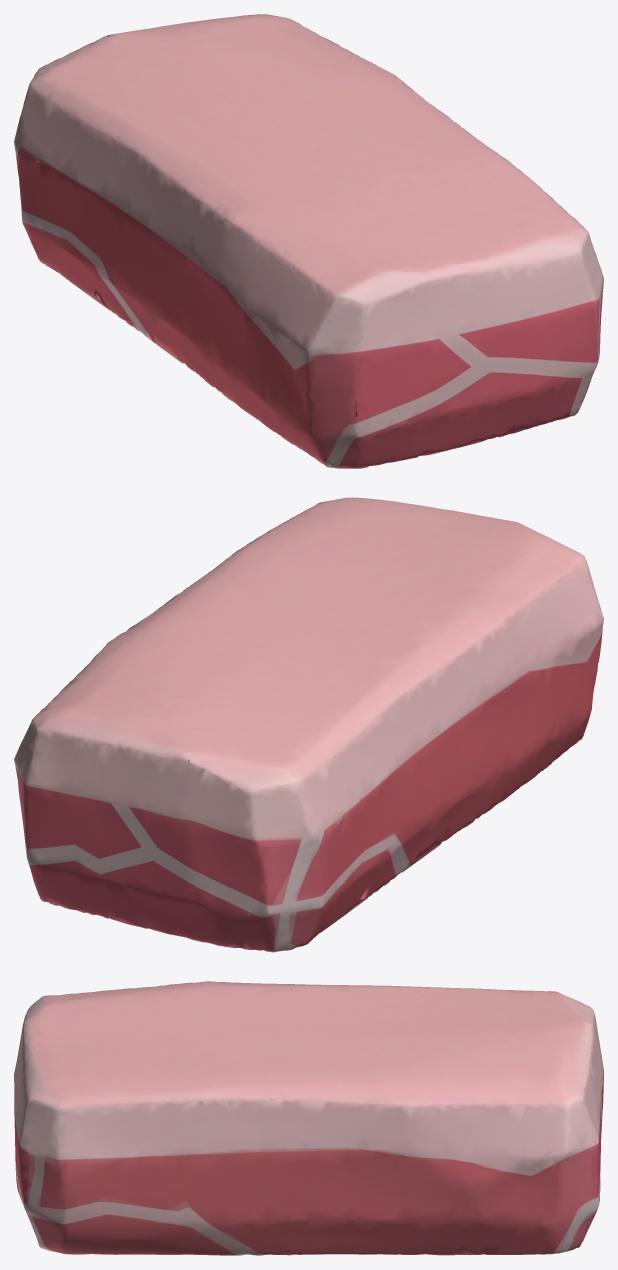
The model's file is Meshy_AI_Marbled_Pink_Block_0422143606_texture.fbx.
3 views of the same model, one above another, from view 1: azimuth 30°, elevation 25°; view 2: azimuth 150°, elevation 25°; view 3: azimuth 270°, elevation 25° (orthographic). The views are drawn at different scales.
Parts seen in each view (by area): view 1: Mesh_0; view 2: Mesh_0; view 3: Mesh_0.
Part boxes in pixels (left/top/right/bottom): Mesh_0: left=14, top=14, right=603, bottom=468; Mesh_0: left=14, top=497, right=603, bottom=952; Mesh_0: left=14, top=981, right=603, bottom=1255.
Bounding box in the file's own units: 104 × 63.82 × 200.
1 material, 1 textured.
